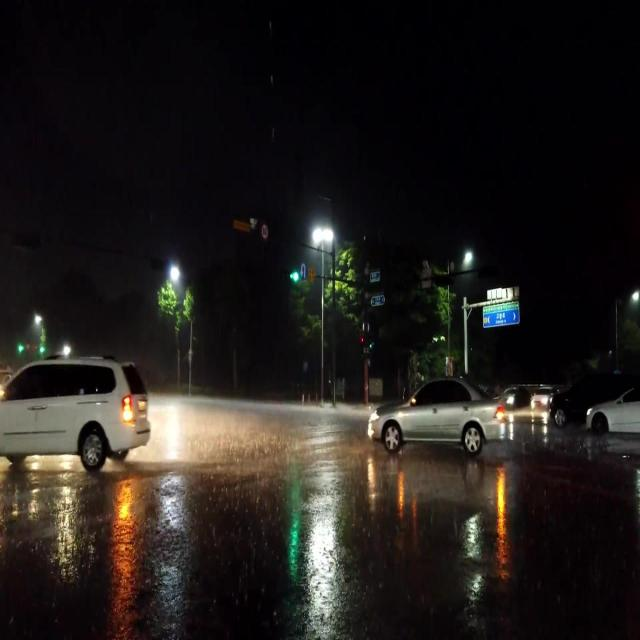Car: (0, 348, 151, 474), (367, 375, 506, 445), (547, 364, 620, 430)
